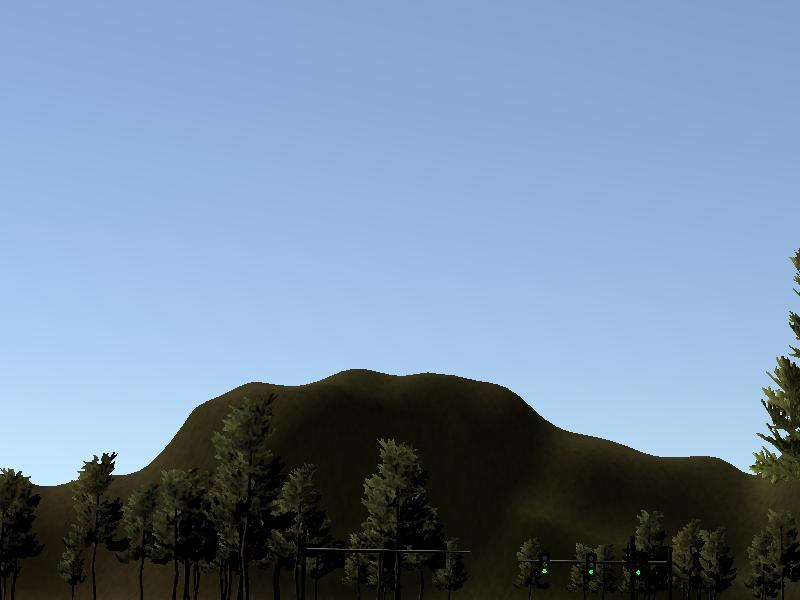Green: (632, 550, 648, 581), (536, 551, 551, 576), (584, 551, 596, 581)
